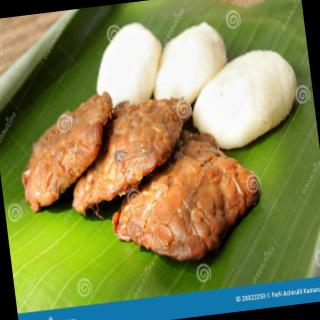Tempe: (104, 132, 269, 271), (61, 94, 204, 223), (13, 91, 126, 215), (185, 45, 305, 155), (146, 20, 234, 111), (89, 20, 170, 113)
